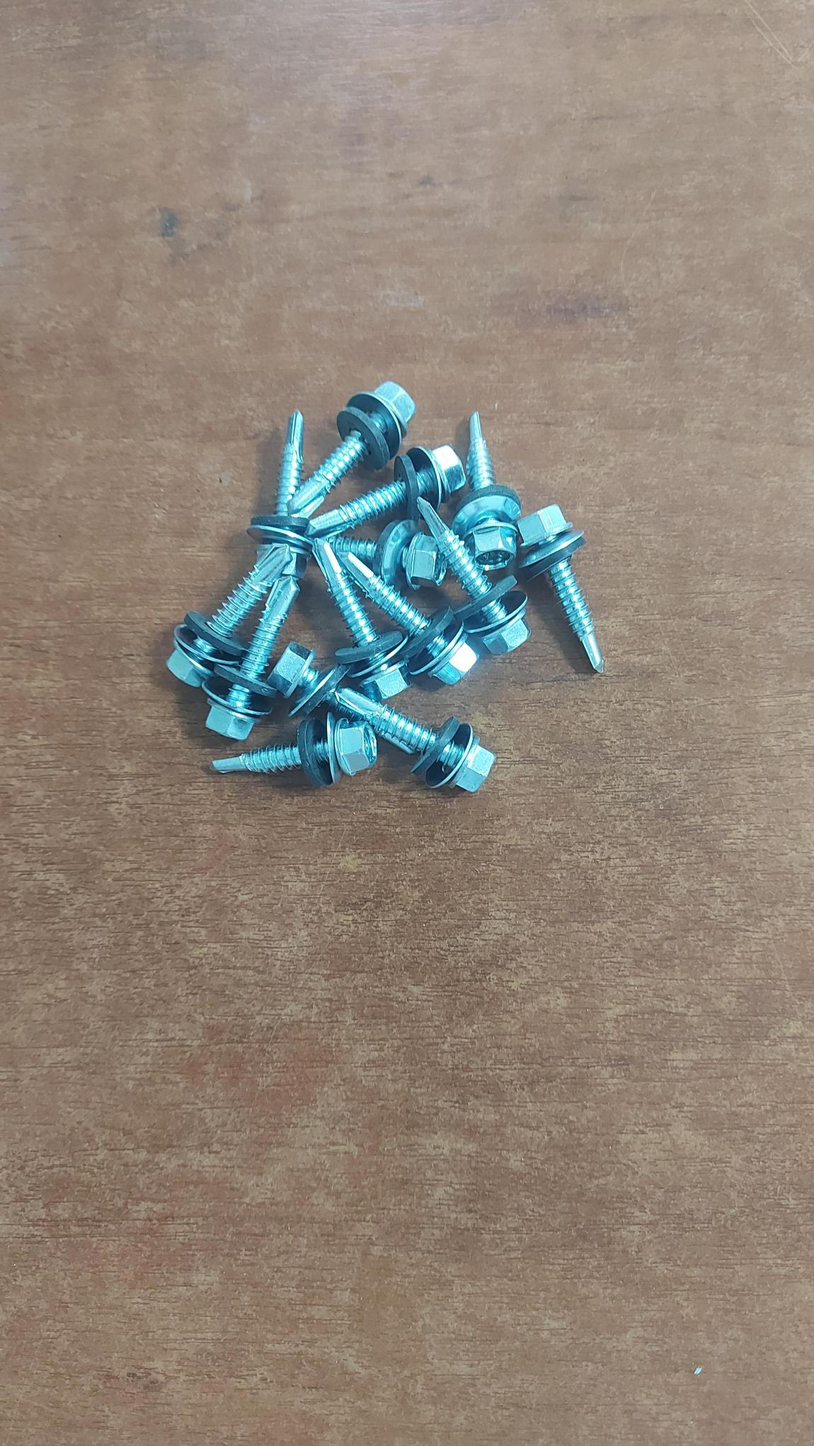Screw_B: (181, 546, 292, 674), (336, 692, 493, 776), (541, 510, 606, 674), (311, 453, 457, 524)
